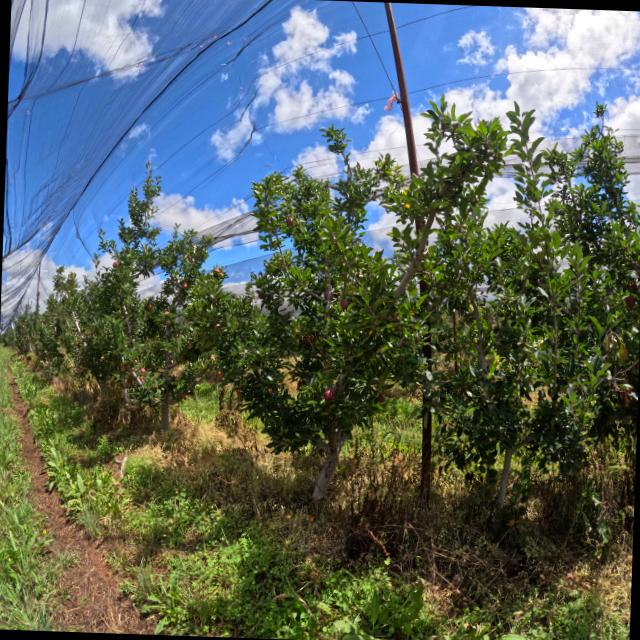-FireBlight-: (615, 383, 632, 407)
